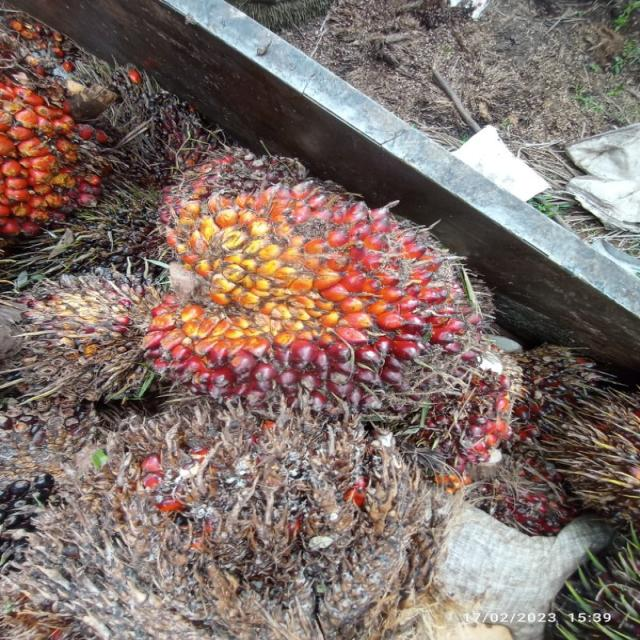fraksi 3: (113, 120, 570, 458)
